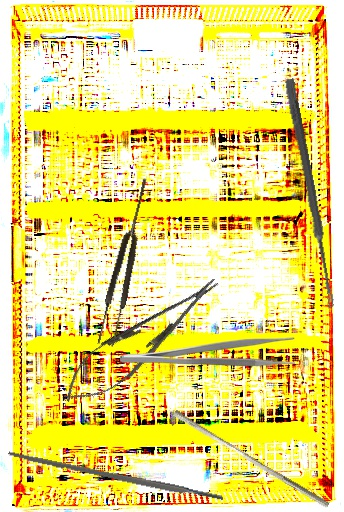Dressing Forceps: (120, 336, 295, 367)
Needle Holder: (52, 263, 231, 418)
Pusher: (169, 409, 334, 509)
Scalpel Handle: (7, 449, 224, 504)
Surgical Spoon: (282, 78, 339, 309)
Tissue Forceps: (94, 176, 157, 348)
